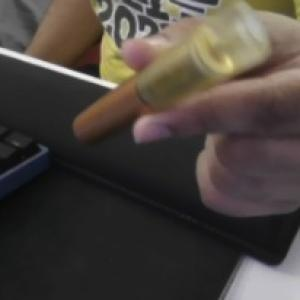Golden-E-Ciggirate: (70, 0, 277, 147)
